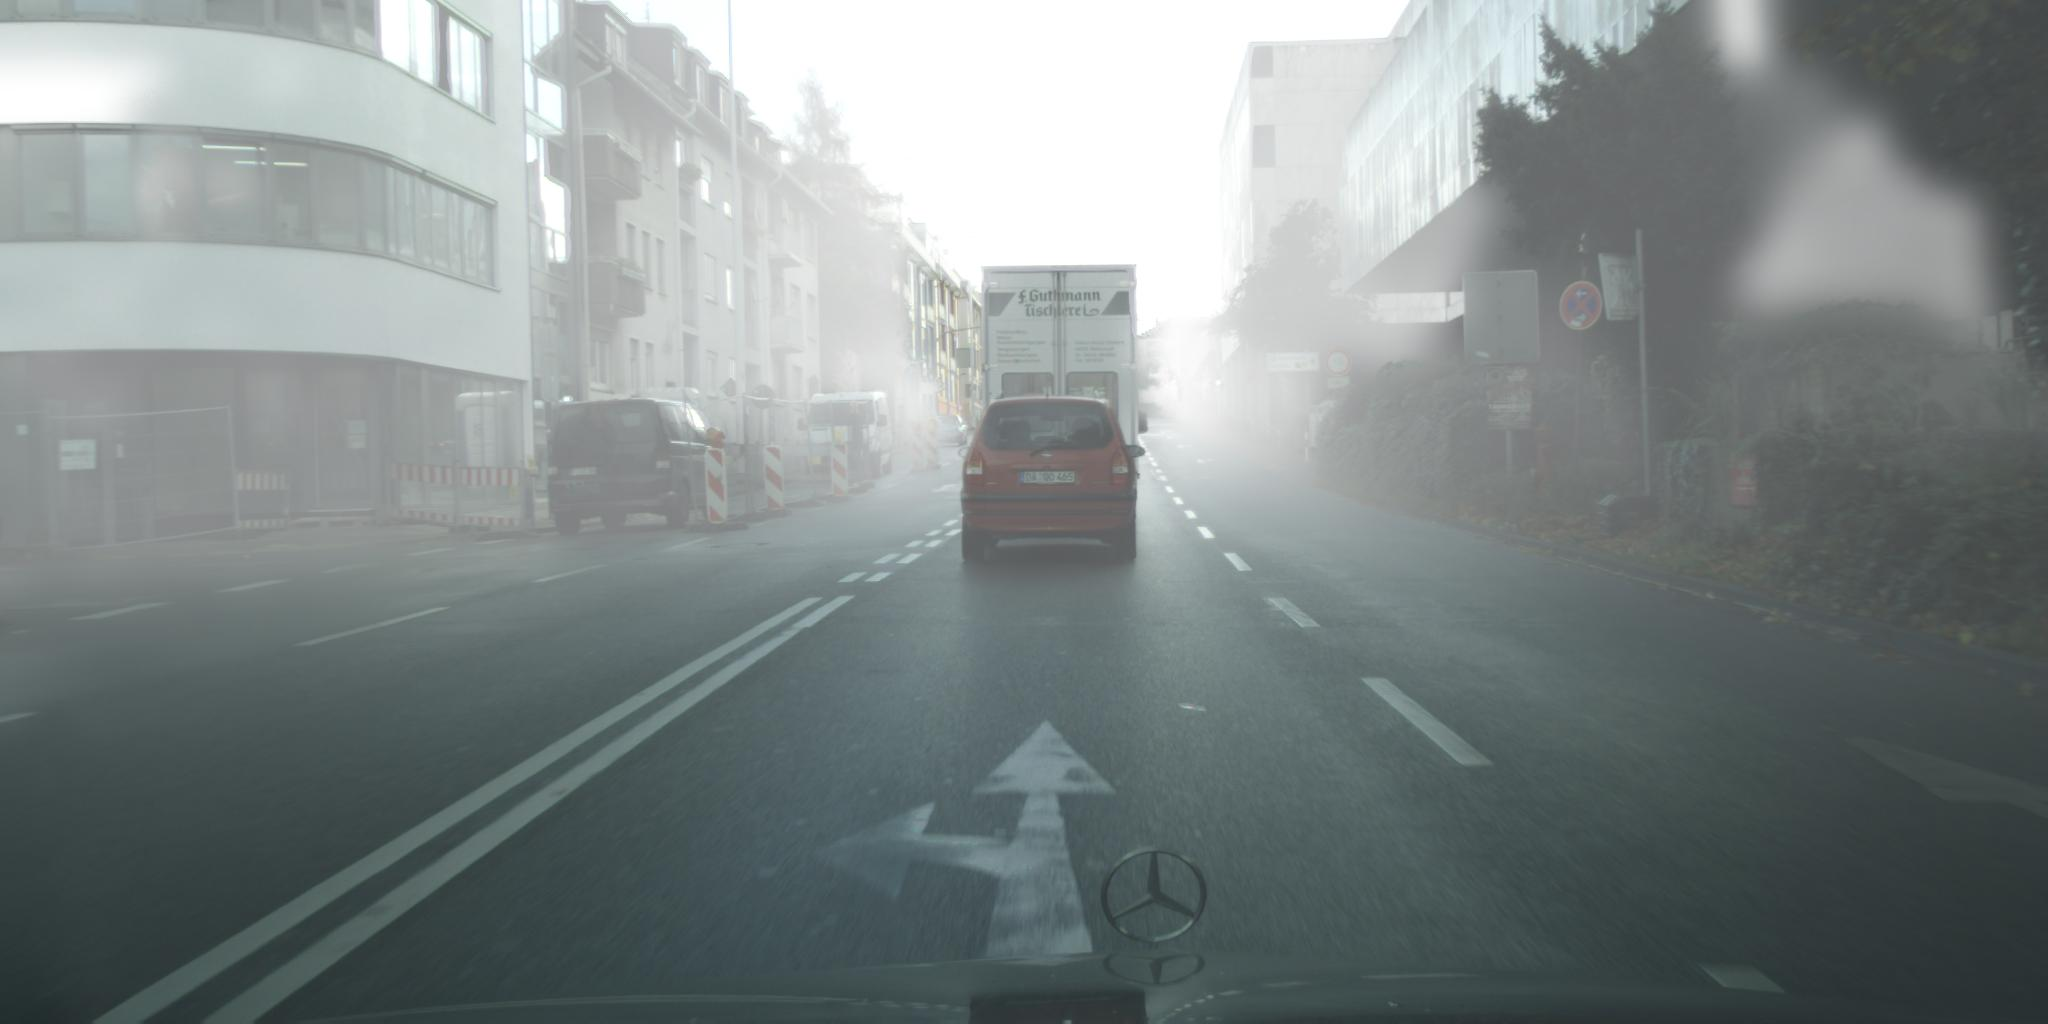car: (956, 400, 1147, 562), (549, 398, 717, 537), (795, 391, 893, 478), (930, 415, 968, 447)
truck: (980, 265, 1148, 472)
